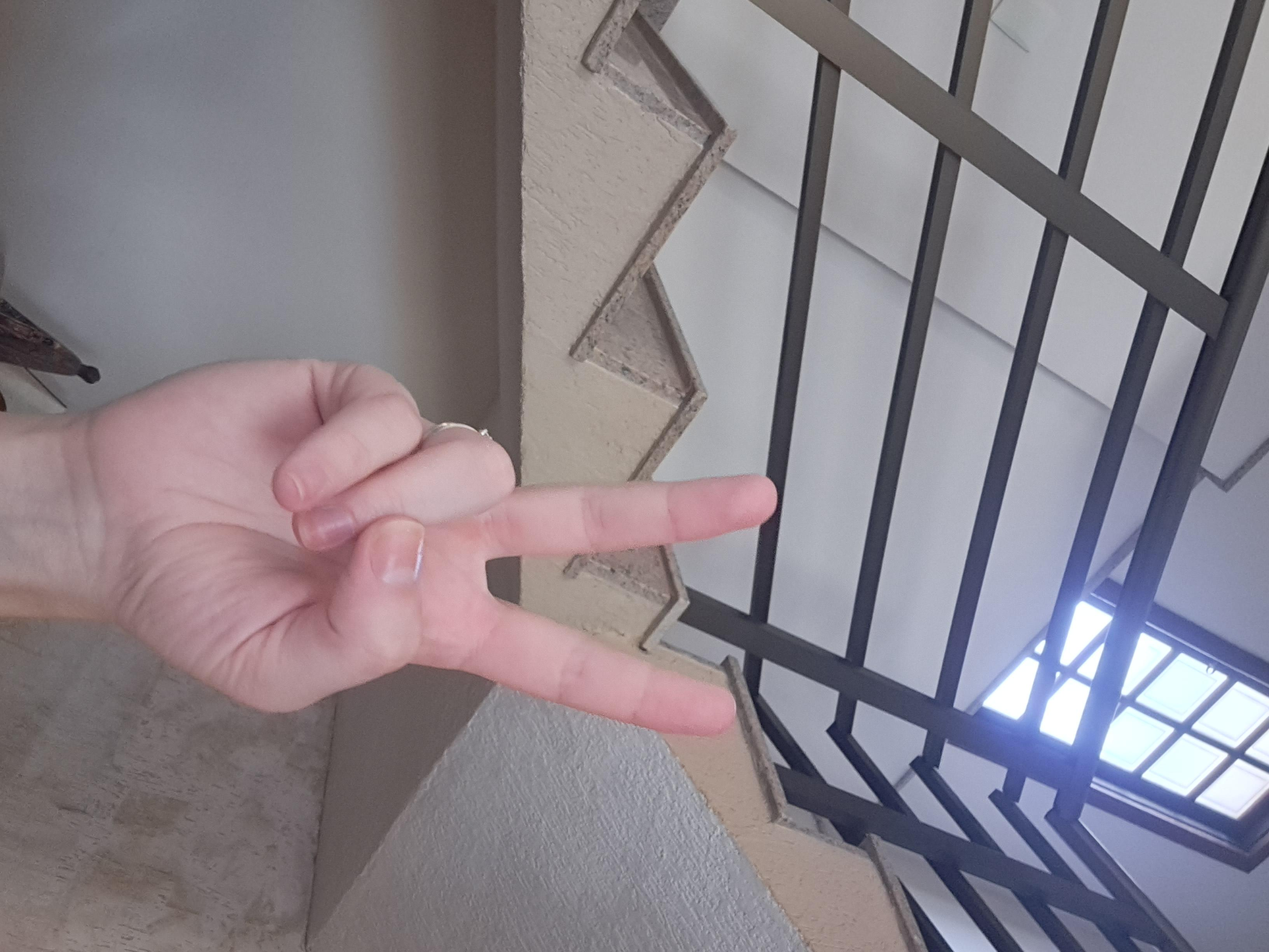V: (446, 353, 990, 881)
